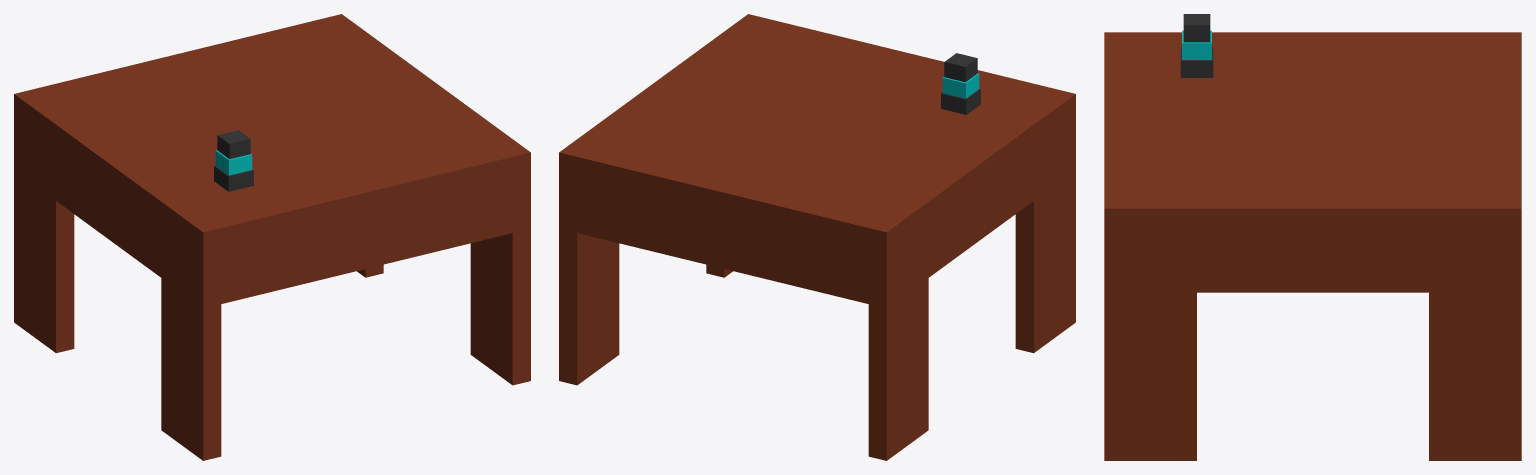
The model's file is hanoi_world_3_boxes.dae.
The picture shows the model from 3 angles, left to right: view 1: azimuth 30°, elevation 25°; view 2: azimuth 150°, elevation 25°; view 3: azimuth 270°, elevation 25°; orthographic projection. The views are drawn at different scales.
Parts seen in each view (by area): view 1: base (×7); view 2: base (×7); view 3: base (×6).
Part boxes in pixels (bbox=[...]): base (×7): bbox=[14, 14, 530, 460]; base (×7): bbox=[559, 14, 1075, 460]; base (×6): bbox=[1104, 14, 1521, 460].
Bounding box in the file's own units: 0.9 × 0.9 × 0.723.
